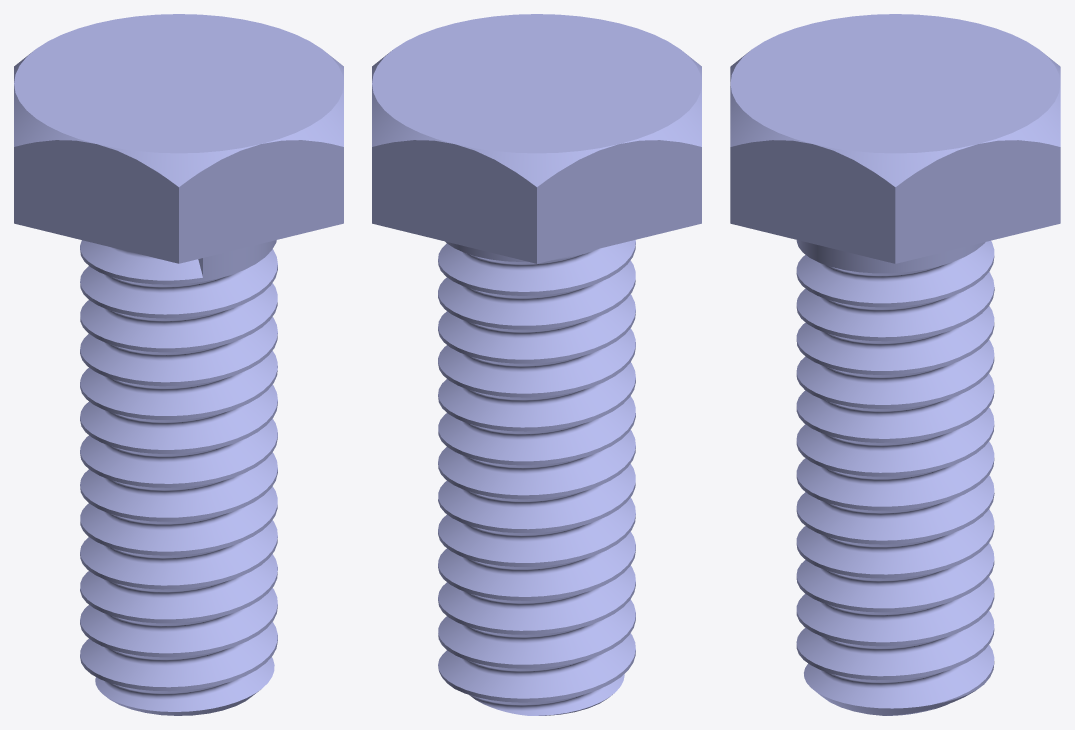
File: V0R_sroub.glb
The picture shows the model from 3 angles, left to right: view 1: azimuth 30°, elevation 25°; view 2: azimuth 150°, elevation 25°; view 3: azimuth 270°, elevation 25°; orthographic projection.
Parts seen in each view (by area): view 1: Těleso1; view 2: Těleso1; view 3: Těleso1.
Part boxes in pixels (x1,y1,x2,y2): Těleso1: (14, 14, 343, 715); Těleso1: (372, 14, 701, 715); Těleso1: (730, 14, 1060, 715).
Size of the model in its own units: 0.0173 by 0.03 by 0.015.
